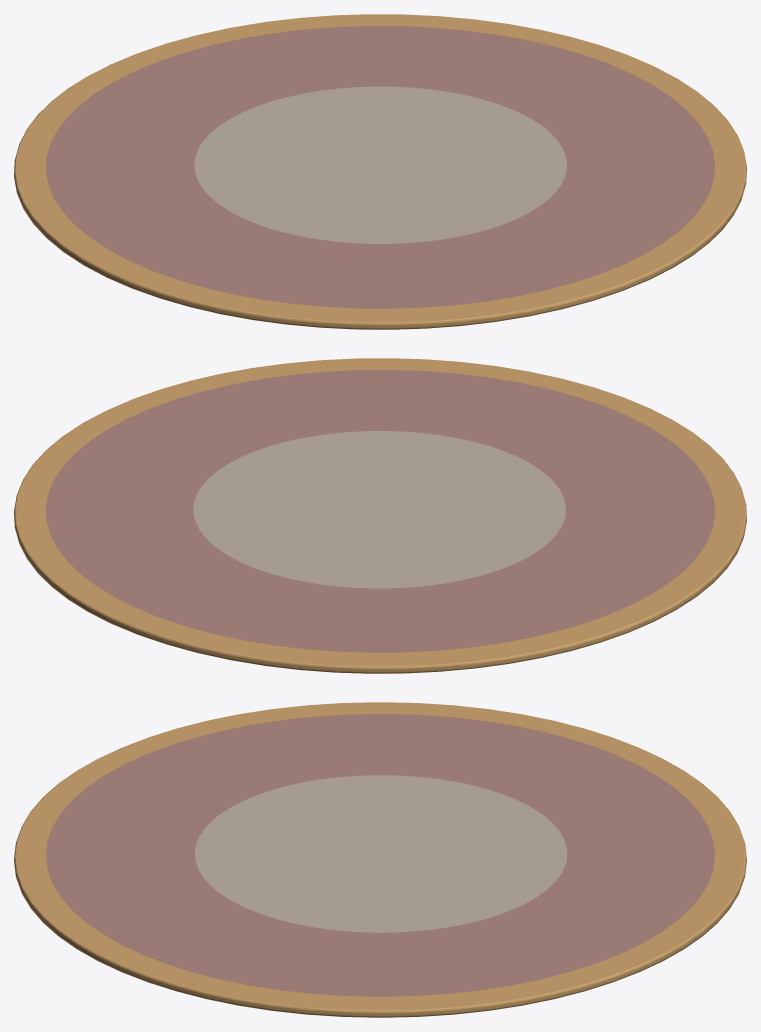
The model's file is carpet-transformed.glb.
3 views of the same model, one above another, from view 1: azimuth 30°, elevation 25°; view 2: azimuth 150°, elevation 25°; view 3: azimuth 270°, elevation 25° (orthographic).
Parts seen in each view (by area): view 1: Ellipse 2.003, Ellipse 3, Ellipse.002; view 2: Ellipse 2.003, Ellipse 3, Ellipse.002; view 3: Ellipse 2.003, Ellipse 3, Ellipse.002.
Part boxes in pixels (<box>): Ellipse 2.003: <box>45,26,715,308</box>; Ellipse 3: <box>194,86,566,243</box>; Ellipse.002: <box>14,14,746,329</box>; Ellipse 2.003: <box>45,370,715,652</box>; Ellipse 3: <box>193,431,565,588</box>; Ellipse.002: <box>14,358,746,673</box>; Ellipse 2.003: <box>45,714,715,996</box>; Ellipse 3: <box>195,775,567,932</box>; Ellipse.002: <box>14,702,746,1017</box>.
Bounding box in the file's own units: 2.57 × 0.0393 × 2.57.
